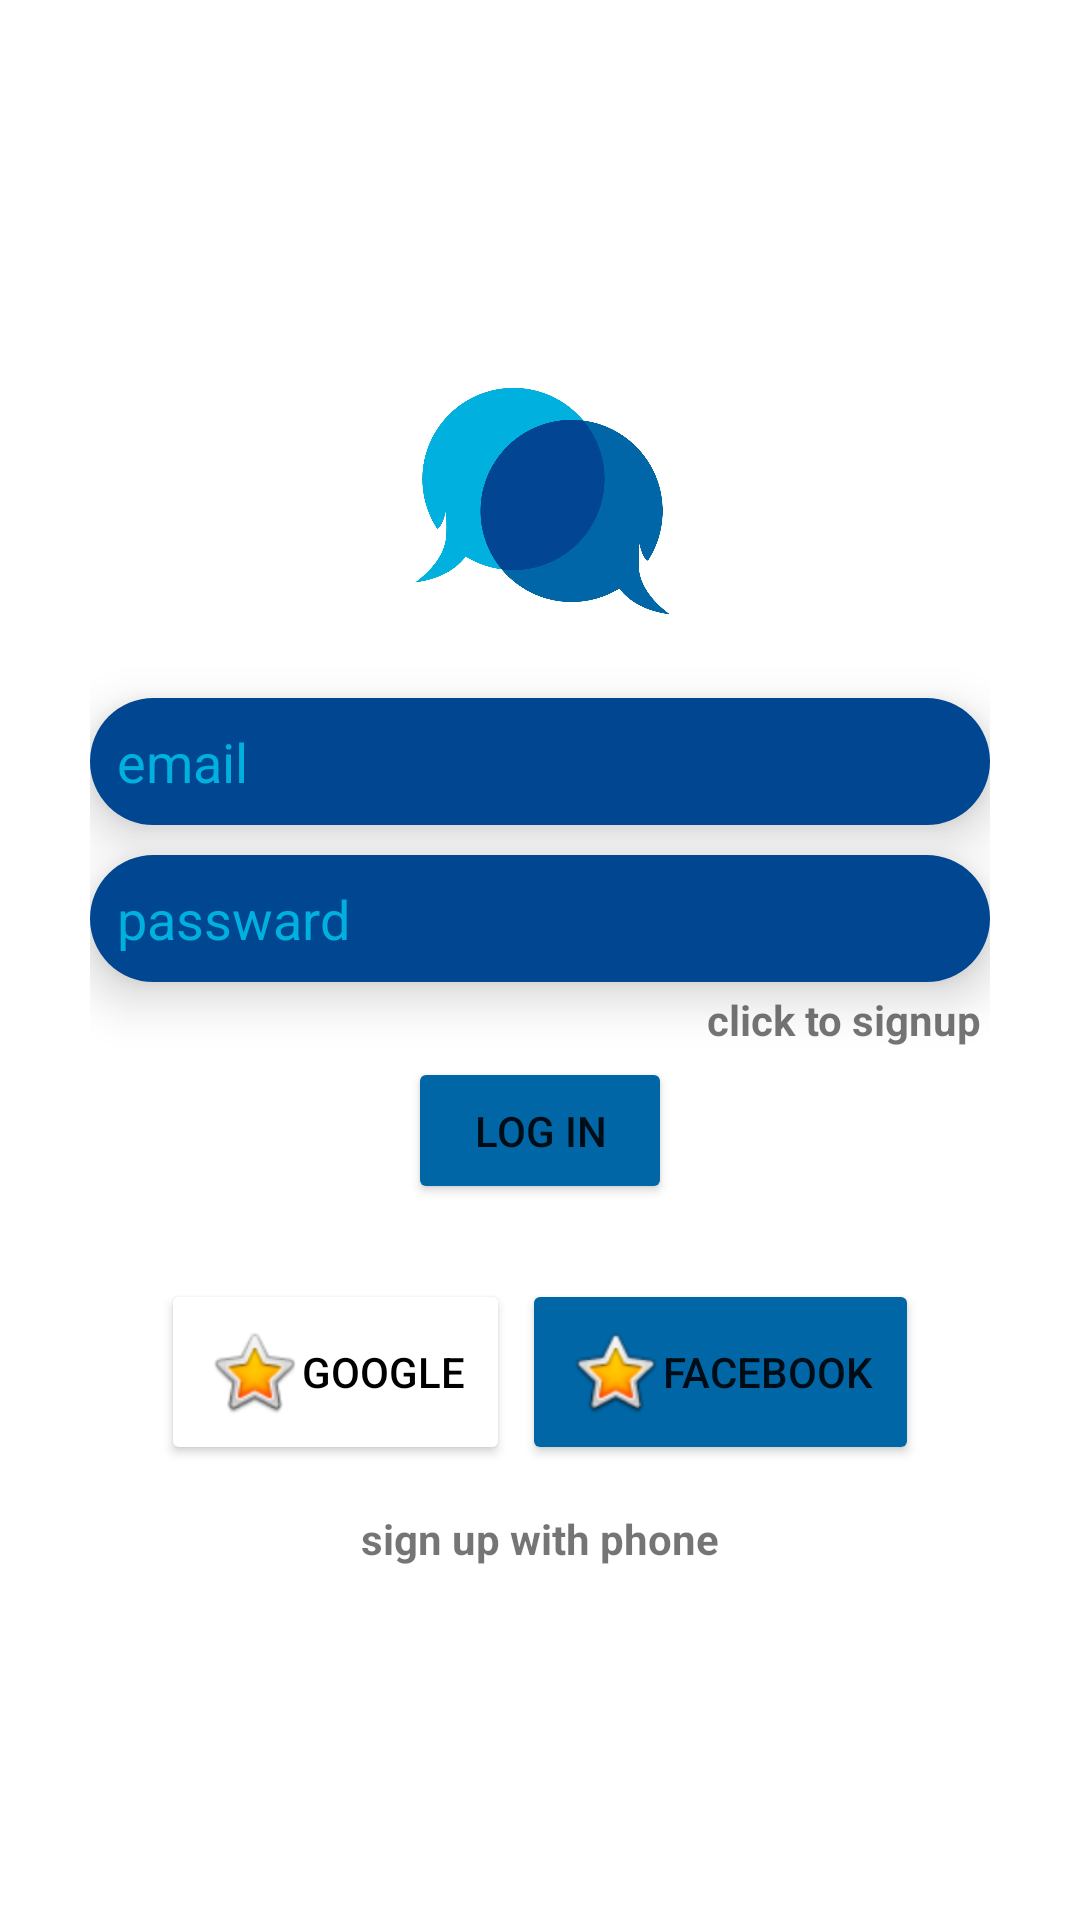

Locate icon controls on the screen. Image size 1080×1920, boxes as (x1=x1, y1=y1, x2=x2, y2=y2).
chat: (x1=415, y1=388, x2=669, y2=615)
